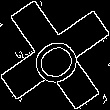O_NE: (22, 23, 88, 87)
